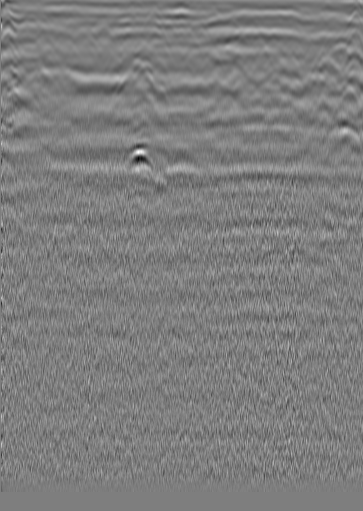가스: (119, 141, 157, 174)
상수: (282, 31, 302, 51)
오수: (31, 29, 51, 49)
우수: (183, 40, 203, 60)
